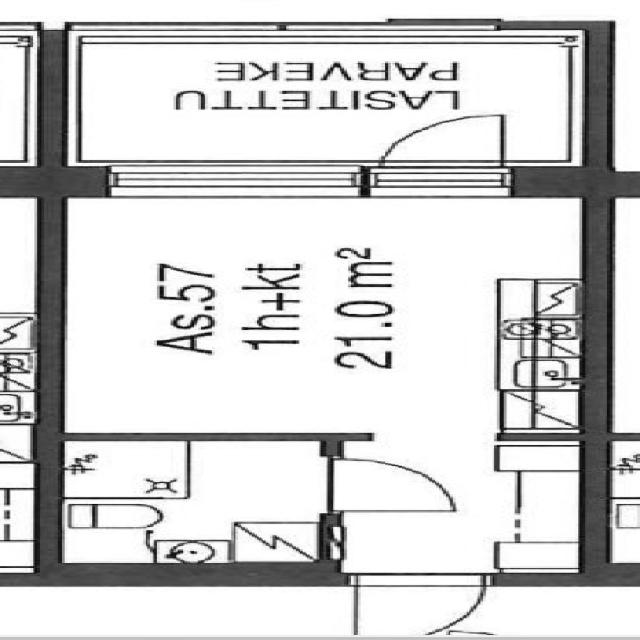door: (341, 569, 503, 638), (368, 108, 514, 166), (322, 454, 454, 514)
window: (92, 160, 387, 198), (350, 162, 532, 199)
zone: (49, 195, 555, 431), (63, 42, 584, 160), (53, 437, 332, 571), (322, 443, 599, 577), (327, 451, 475, 526), (345, 571, 495, 637), (58, 437, 187, 499)
